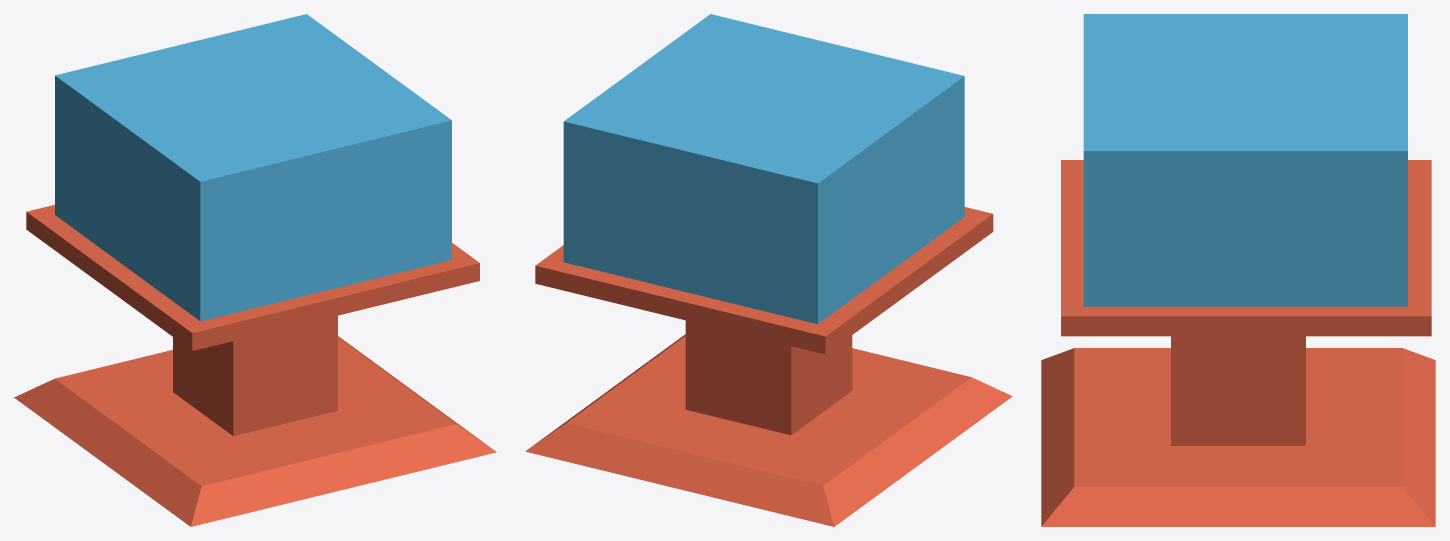
File: display_case.fbx
3 renders of one model, left to right at view 1: azimuth 30°, elevation 25°; view 2: azimuth 150°, elevation 25°; view 3: azimuth 270°, elevation 25°, orthographic. The views are drawn at different scales.
Visible parts, largest first — view 1: Glass, Cube, Cube.002, Cube.001; view 2: Glass, Cube, Cube.002, Cube.001; view 3: Glass, Cube, Cube.002, Cube.001.
Part boxes in pixels (x1,y1,x2,y2): Glass: (55, 14, 451, 321); Cube: (14, 336, 496, 526); Cube.002: (26, 205, 479, 350); Cube.001: (173, 315, 337, 436); Glass: (563, 14, 964, 324); Cube: (525, 334, 1012, 526); Cube.002: (535, 207, 993, 354); Cube.001: (685, 320, 852, 435); Glass: (1083, 14, 1407, 306); Cube: (1041, 348, 1435, 526); Cube.002: (1061, 160, 1431, 336); Cube.001: (1171, 336, 1305, 445).
Bounding box in the file's own units: 213 × 215 × 213.
